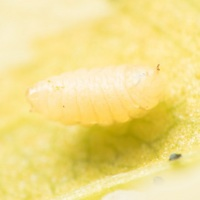insect: (28, 65, 162, 124), (169, 153, 180, 160), (156, 64, 159, 70)
